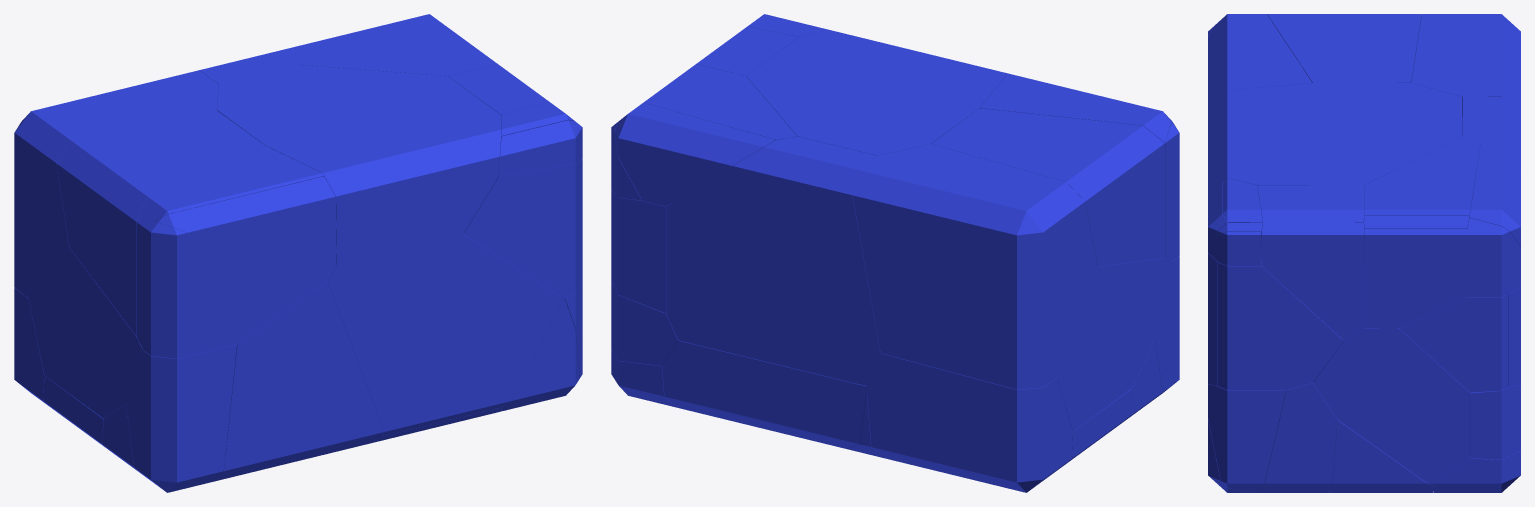
File: play_brokenfbx.fbx
3 views of the same model, side by side, from view 1: azimuth 30°, elevation 25°; view 2: azimuth 150°, elevation 25°; view 3: azimuth 270°, elevation 25° (orthographic).
Parts seen in each view (by area): view 1: Cube_cell.001, Cube_cell.030, Cube_cell.023, Cube_cell.025, Cube_cell.029, Cube_cell.027, Cube_cell.037, Cube_cell.009, Cube_cell.007, Cube_cell.016, Cube_cell.026, Cube_cell.003 (+10 smaller); view 2: Cube_cell.027, Cube_cell.031, Cube_cell.001, Cube_cell.012, Cube_cell.025, Cube_cell.018, Cube_cell.009, Cube_cell.032, Cube_cell.026, Cube_cell.017, Cube_cell.003, Cube_cell.011 (+9 smaller); view 3: Cube_cell.001, Cube_cell.038, Cube_cell.035, Cube_cell.006, Cube_cell.014, Cube_cell.025, Cube_cell.027, Cube_cell.034, Cube_cell.026, Cube_cell.013, Cube_cell.028, Cube_cell.003 (+16 smaller).
Boxes of the visible parts, x1,y1,x2,y2 form: Cube_cell.001: [217, 65, 501, 264]; Cube_cell.030: [328, 234, 563, 436]; Cube_cell.023: [212, 282, 383, 481]; Cube_cell.025: [56, 110, 265, 336]; Cube_cell.029: [136, 222, 313, 358]; Cube_cell.027: [14, 70, 218, 298]; Cube_cell.037: [126, 344, 237, 492]; Cube_cell.009: [28, 247, 143, 418]; Cube_cell.007: [154, 176, 336, 290]; Cube_cell.016: [463, 163, 578, 297]; Cube_cell.026: [299, 25, 497, 75]; Cube_cell.003: [136, 145, 323, 221]; Cube_cell.027: [852, 144, 1097, 389]; Cube_cell.031: [666, 136, 880, 385]; Cube_cell.001: [746, 30, 1007, 155]; Cube_cell.012: [867, 353, 1072, 492]; Cube_cell.025: [931, 108, 1164, 266]; Cube_cell.018: [662, 340, 866, 448]; Cube_cell.009: [1057, 258, 1171, 431]; Cube_cell.032: [614, 102, 775, 206]; Cube_cell.026: [644, 64, 796, 141]; Cube_cell.017: [614, 193, 669, 313]; Cube_cell.003: [980, 73, 1169, 142]; Cube_cell.011: [611, 282, 677, 365]; Cube_cell.001: [1208, 83, 1462, 292]; Cube_cell.038: [1313, 293, 1469, 484]; Cube_cell.035: [1218, 258, 1343, 390]; Cube_cell.006: [1364, 229, 1467, 328]; Cube_cell.014: [1261, 222, 1364, 340]; Cube_cell.025: [1267, 14, 1421, 82]; Cube_cell.027: [1411, 14, 1520, 111]; Cube_cell.034: [1399, 294, 1508, 392]; Cube_cell.026: [1364, 136, 1480, 216]; Cube_cell.013: [1208, 384, 1285, 492]; Cube_cell.028: [1256, 383, 1337, 492]; Cube_cell.003: [1225, 14, 1312, 91].
Bounding box in the file's own units: 320 × 200 × 200.
